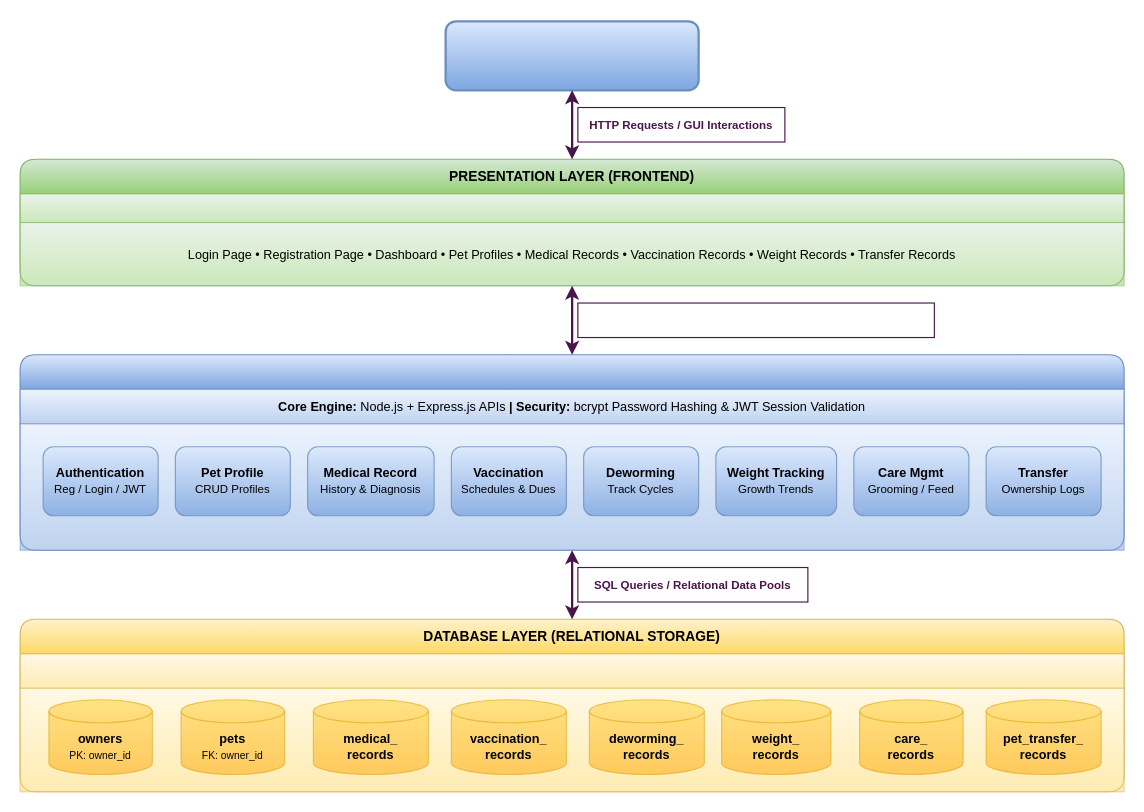
This 1144x812 diagram has some shape labels left out. Each missing label, with the box of its shape:
APPLICATION LAYER (BACKEND): (19, 354, 1124, 550)
Database Engine:: (19, 653, 1124, 688)
REST APIs (JSON Data Payload / POST, GET, PUT, DELETE): (577, 302, 934, 338)
Technologies:: (19, 193, 1124, 223)
USER LAYER Pet Owner (Web Browser): (444, 20, 699, 91)
